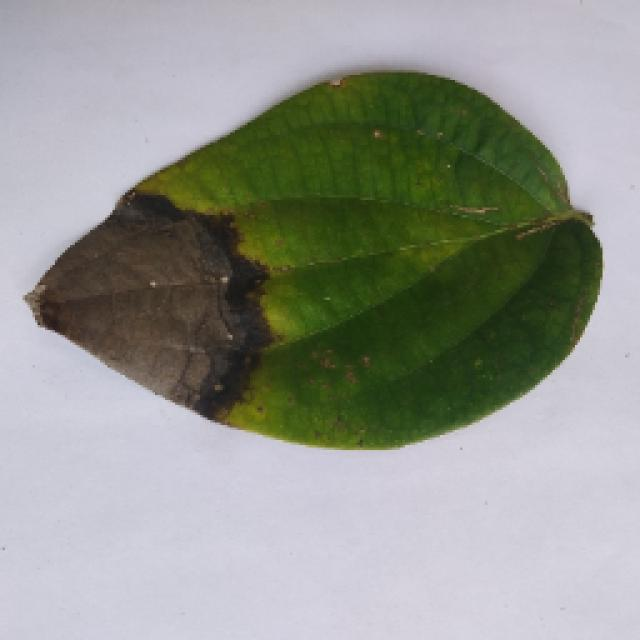footrot: (12, 65, 598, 453)
